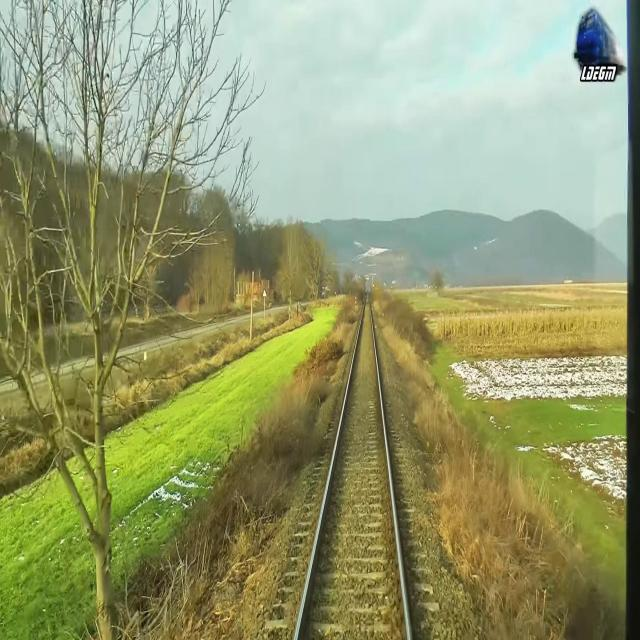rail-track: (298, 296, 407, 639)
